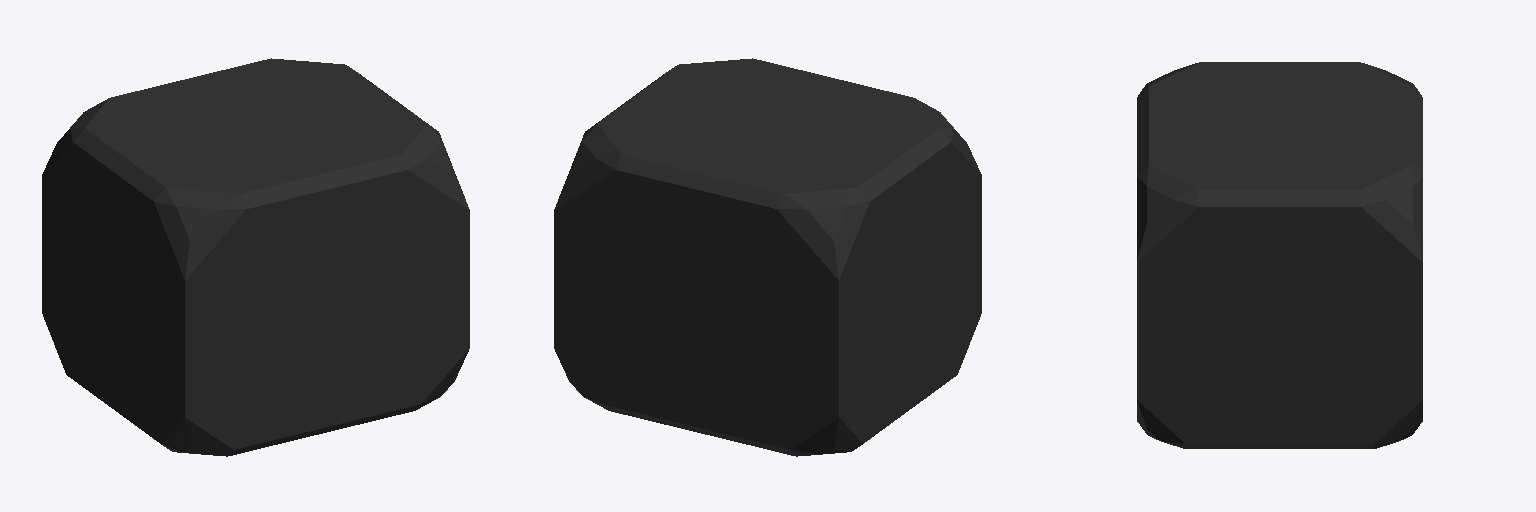
Rendered from rock.obj.
3 renders of one model, left to right at view 1: azimuth 30°, elevation 25°; view 2: azimuth 150°, elevation 25°; view 3: azimuth 270°, elevation 25°, orthographic.
Visible parts, largest first — view 1: Cube; view 2: Cube; view 3: Cube.
Boxes of the visible parts, x1=… form: Cube: x1=42, y1=58, x2=469, y2=456; Cube: x1=554, y1=58, x2=981, y2=456; Cube: x1=1137, y1=62, x2=1422, y2=448.
Bounding box in the file's own units: 3.21 × 2.79 × 2.79.